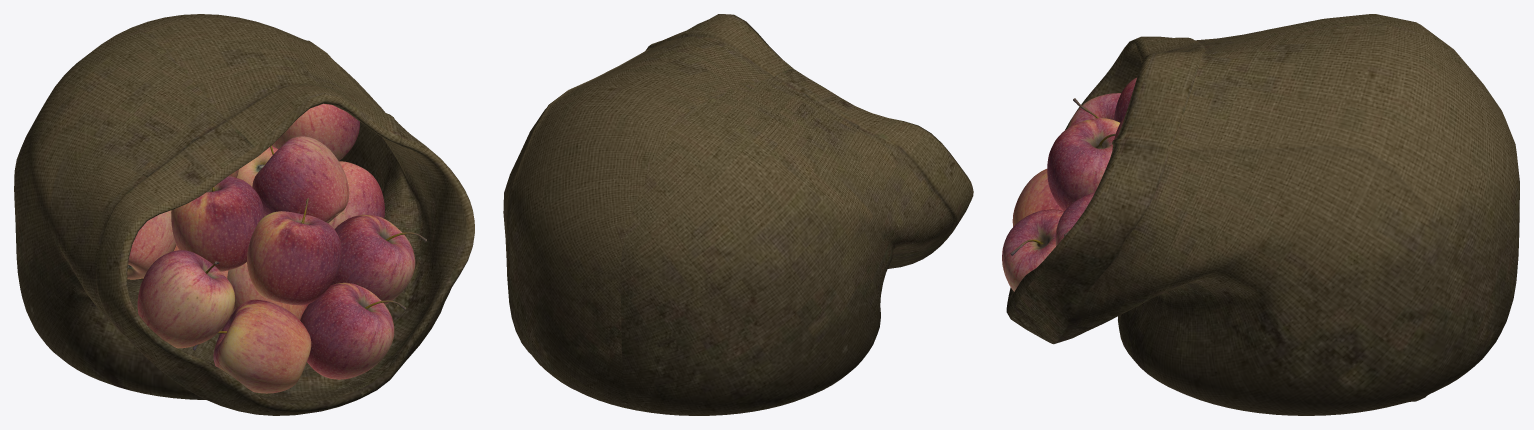
The model's file is apples.glb.
3 renders of one model, left to right at view 1: azimuth 30°, elevation 25°; view 2: azimuth 150°, elevation 25°; view 3: azimuth 270°, elevation 25°, orthographic. The views are drawn at different scales.
Visible parts, largest first — view 1: Cylinder, Red_Apple.001; view 2: Cylinder; view 3: Cylinder, Red_Apple.001.
Part boxes in pixels (box(x1,y1,x2,y2)): Cylinder: box(14, 14, 474, 415); Red_Apple.001: box(127, 103, 426, 393); Cylinder: box(503, 14, 973, 415); Cylinder: box(1006, 14, 1519, 415); Red_Apple.001: box(1002, 77, 1136, 291).
Size of the model in its own units: 0.466 by 0.3632 by 0.538.
2 materials, 2 textured.
